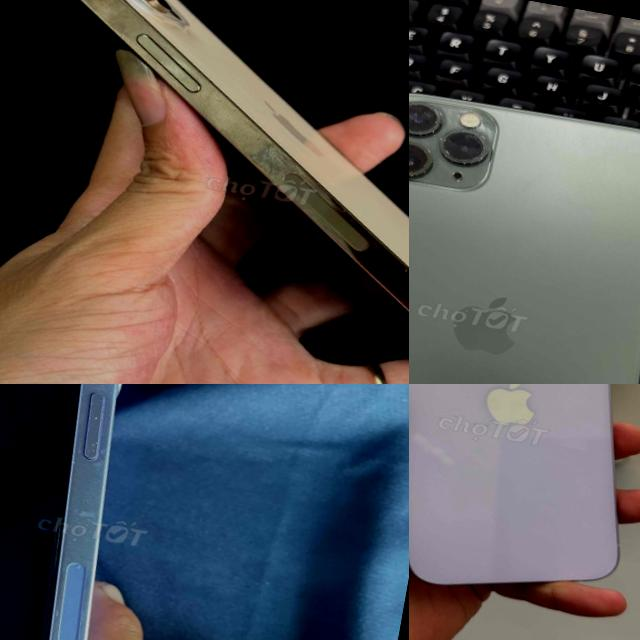gen_11: (409, 93, 640, 384)
gen_12_13: (0, 384, 221, 640)
gen_14: (0, 0, 409, 384), (409, 384, 640, 624)
scratch: (409, 97, 497, 197), (228, 128, 336, 208), (399, 259, 409, 279)
